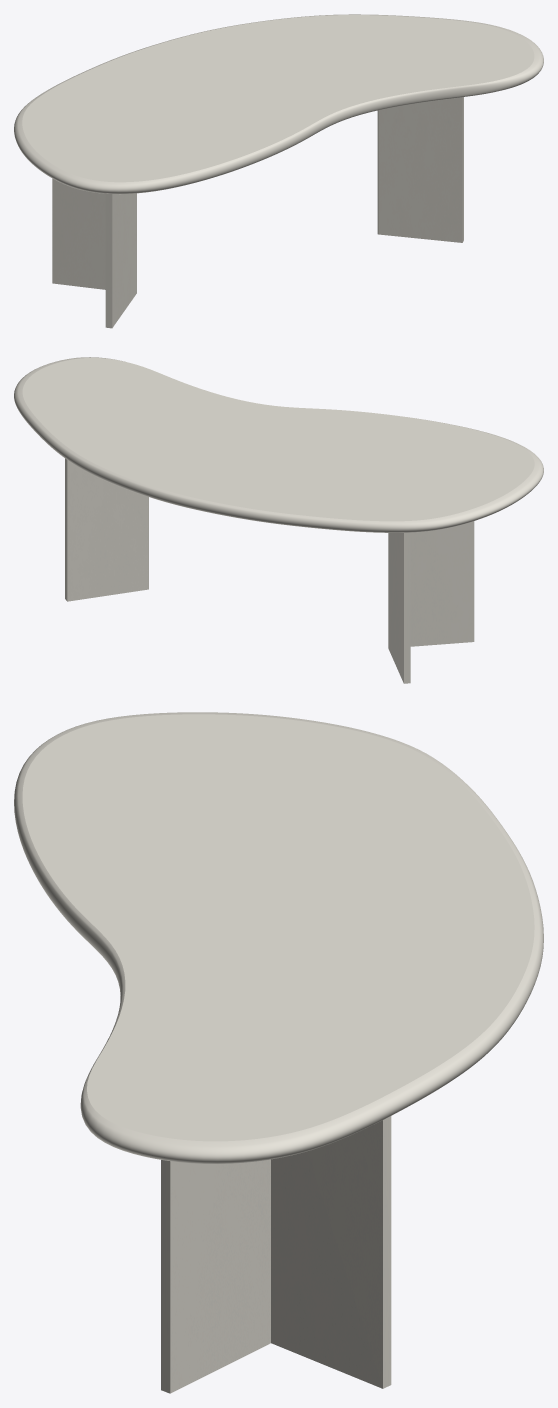
The model's file is pale_leaf1_round_valleyv.glb.
The picture shows the model from 3 angles, top to bottom: view 1: azimuth 30°, elevation 25°; view 2: azimuth 150°, elevation 25°; view 3: azimuth 270°, elevation 25°; orthographic projection. The views are drawn at different scales.
Parts seen in each view (by area): view 1: round_leaf1, valleyv; view 2: round_leaf1, valleyv; view 3: round_leaf1, valleyv.
Part boxes in pixels (x1,y1,x2,y2): round_leaf1: (14, 14, 543, 194); valleyv: (52, 97, 463, 328); round_leaf1: (14, 357, 543, 532); valleyv: (65, 458, 474, 683); round_leaf1: (14, 712, 543, 1163); valleyv: (161, 1116, 391, 1393).
Bounding box in the file's own units: 7.5 × 2.5 × 3.8.
1 material, 1 textured.
